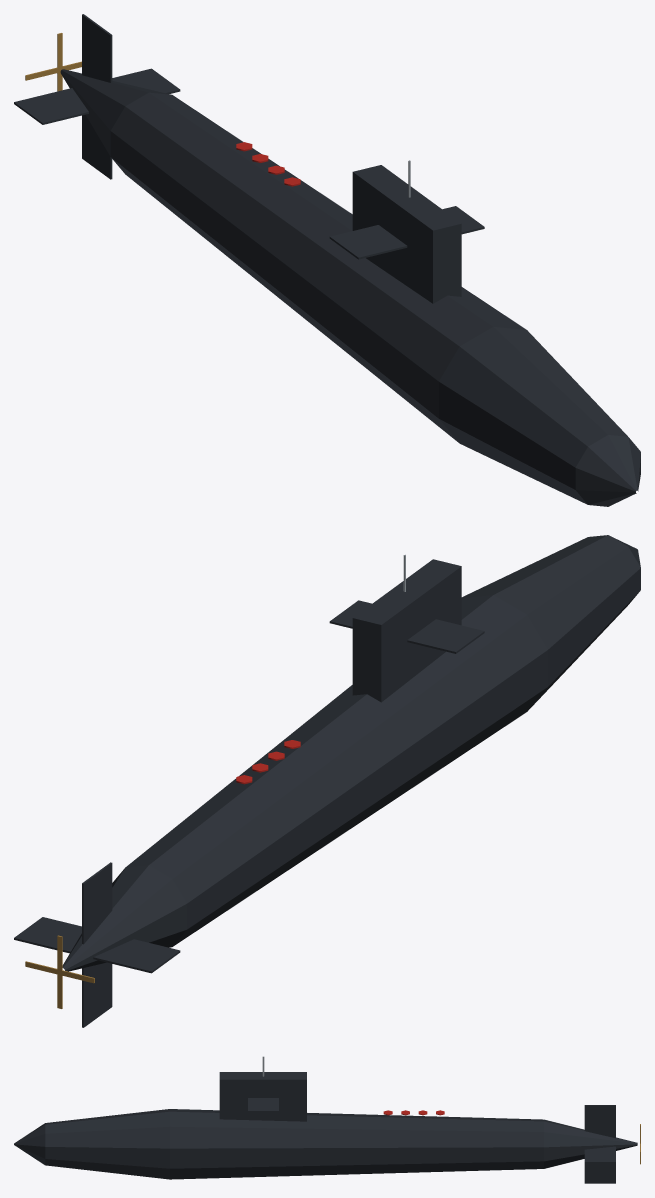
The model's file is veh_naval_submarine_a09.glb.
3 renders of one model, top to bottom at view 1: azimuth 30°, elevation 25°; view 2: azimuth 150°, elevation 25°; view 3: azimuth 270°, elevation 25°, orthographic. The views are drawn at different scales.
Visible parts, largest first — view 1: body; view 2: body, propeller; view 3: body.
Boxes of the visible parts, <box> form: body: <box>14,14,640,506</box>; body: <box>14,535,640,1027</box>; propeller: <box>25,935,94,1008</box>; body: <box>14,1056,637,1183</box>.
Size of what is drawn, in the model's own units: 5.95 by 9.68 by 43.23.
